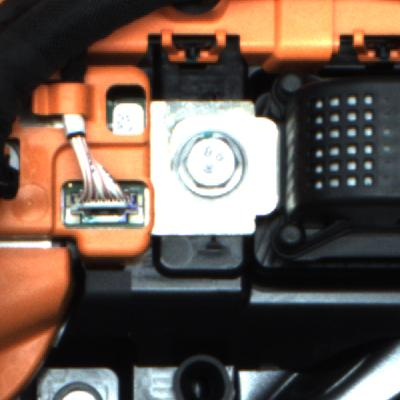nut_b: (167, 131, 251, 196)
